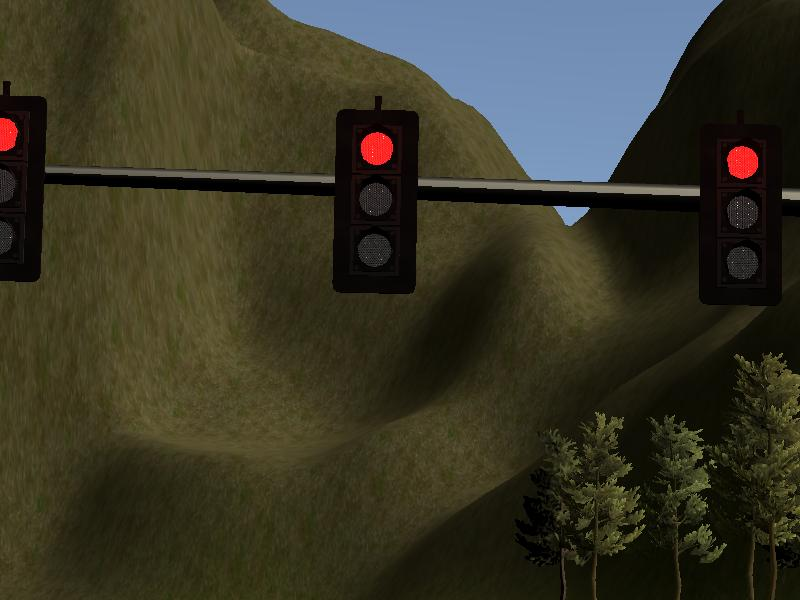red: (335, 108, 414, 292), (702, 121, 781, 305)
